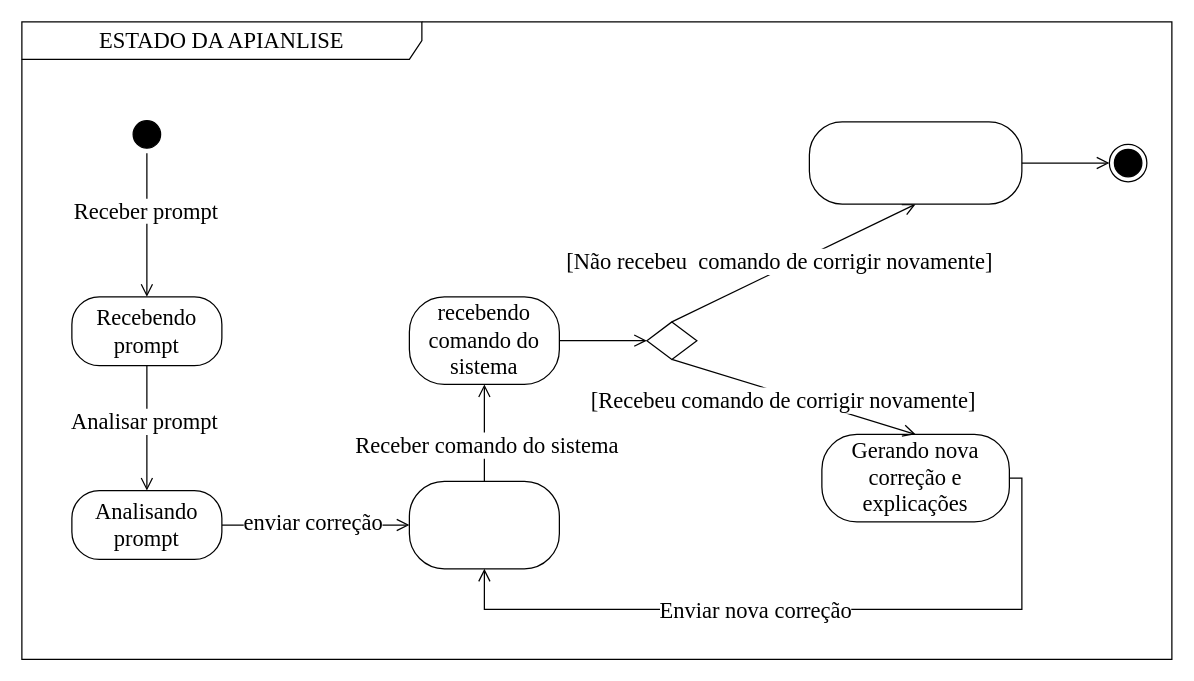
The diagram is 1194 pixels wide and 681 high, and some of its shapes have lost their labels. The centre of each missing label's shape, as x and y in pixels:
"Enviando correção e explicações" goes at pixel 483 524.
"Finalizando atividade" goes at pixel 915 162.
